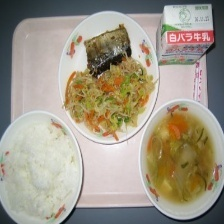rice: (0, 123, 76, 220)
